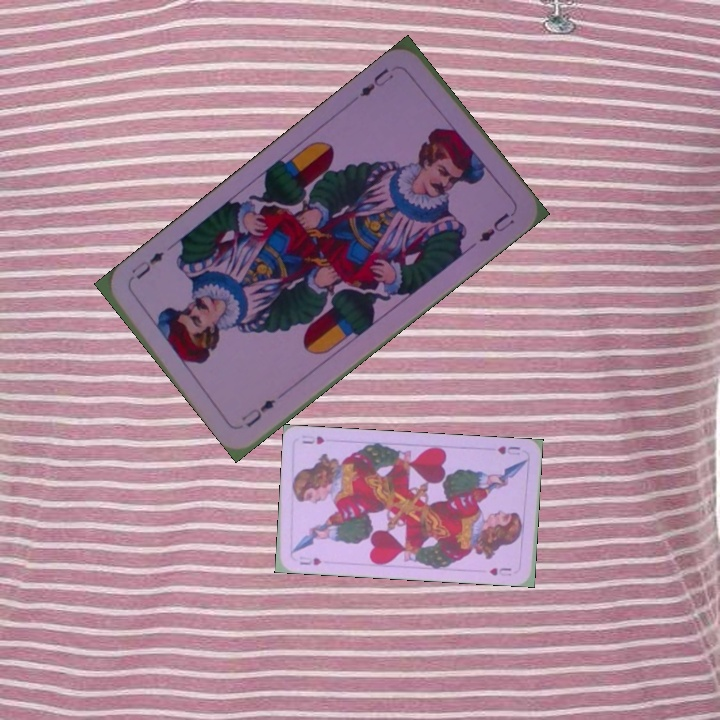EU: (236, 394, 279, 431), (356, 64, 396, 100)
HU: (295, 552, 324, 568), (494, 442, 523, 457)
